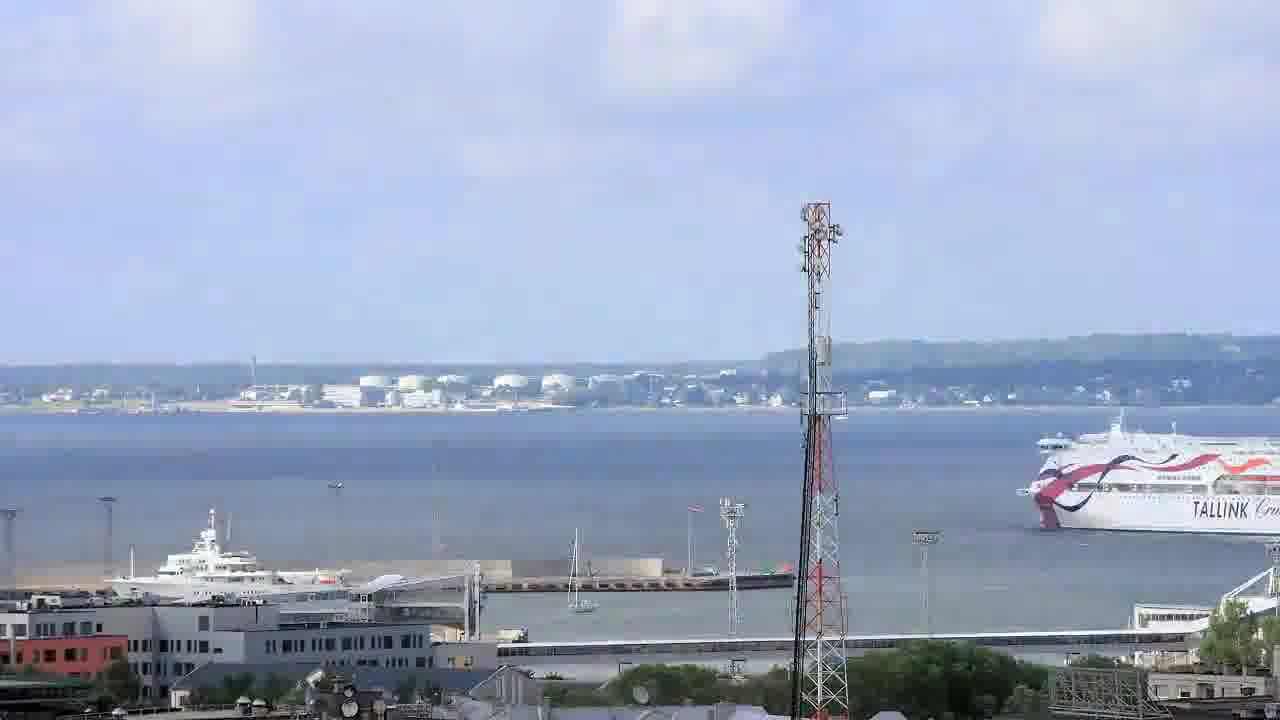type-0: (551, 536, 614, 615)
type-3: (997, 409, 1280, 555), (96, 508, 381, 605)
